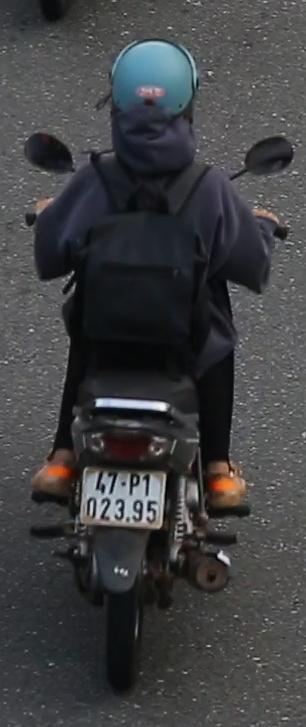LP: (75, 459, 174, 543)
helmet: (106, 38, 205, 139)
